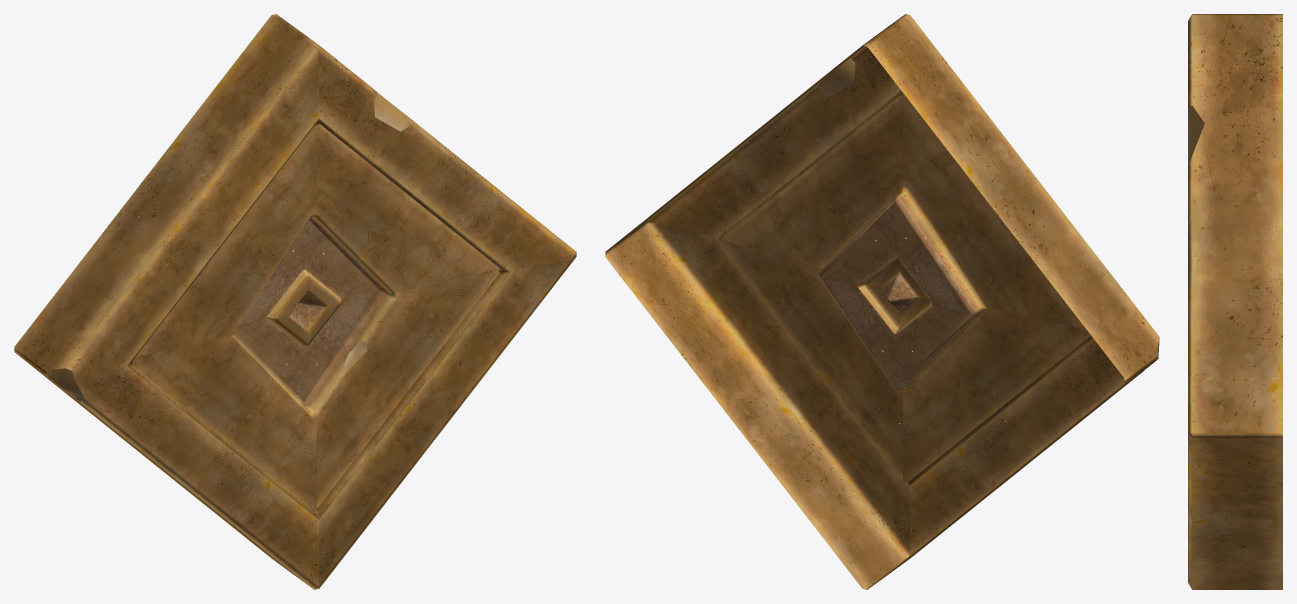
3 renders of one model, left to right at view 1: azimuth 30°, elevation 25°; view 2: azimuth 150°, elevation 25°; view 3: azimuth 270°, elevation 25°, orthographic. The views are drawn at different scales.
Visible parts, largest first — view 1: SM_Wall_Dart_Trap_01_LOD0; view 2: SM_Wall_Dart_Trap_01_LOD0; view 3: SM_Wall_Dart_Trap_01_LOD0.
Boxes of the visible parts, <box> form: SM_Wall_Dart_Trap_01_LOD0: <box>14,14,576,589</box>; SM_Wall_Dart_Trap_01_LOD0: <box>605,14,1159,589</box>; SM_Wall_Dart_Trap_01_LOD0: <box>1188,14,1282,589</box>.
Bounding box in the file's own units: 0.9864 × 0.9864 × 0.1481.
Materials: 1 (1 with a texture image).
